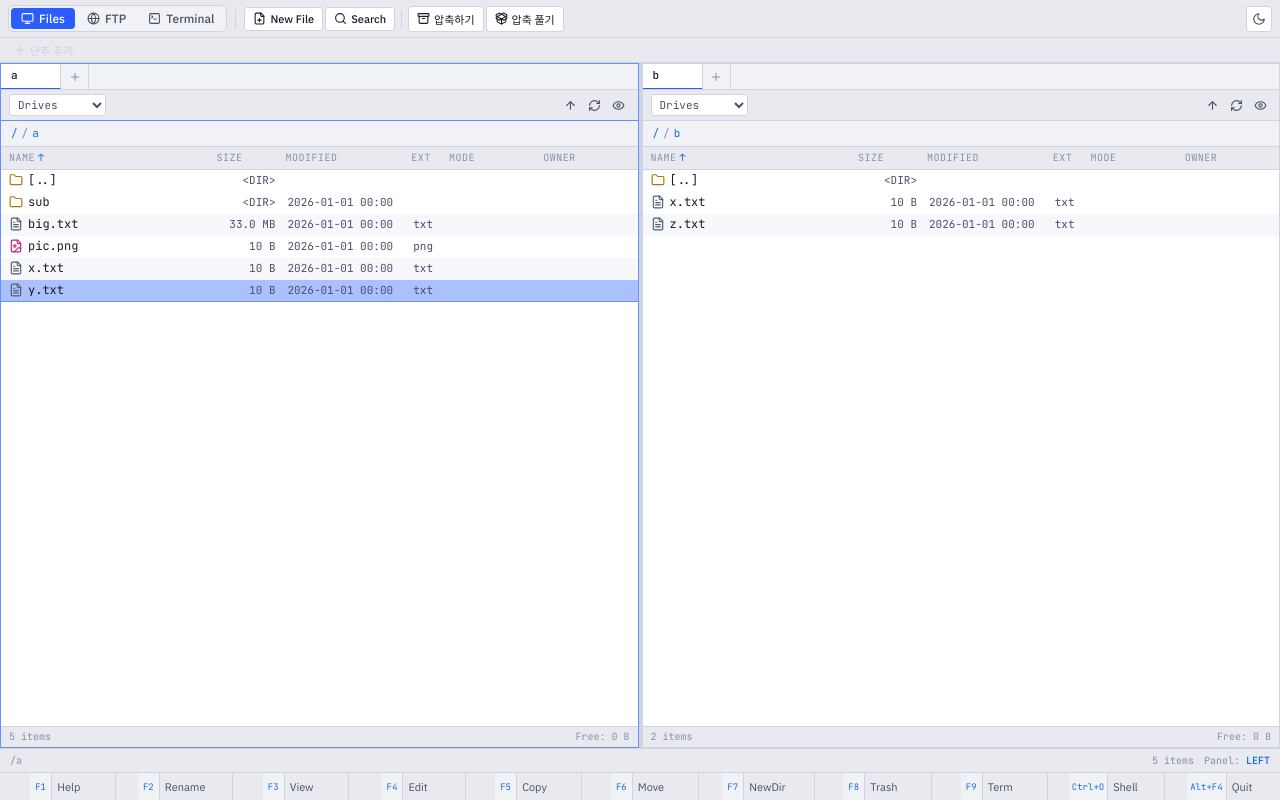
Test case: App 커버리지 — 휴지통/영구 삭제 › AP-06: 영구 삭제 실패 시 오류 표시 후 Escape로 닫힘
Expected: the text "y.txt" is shown, [28,282,64,299]
Press Delete
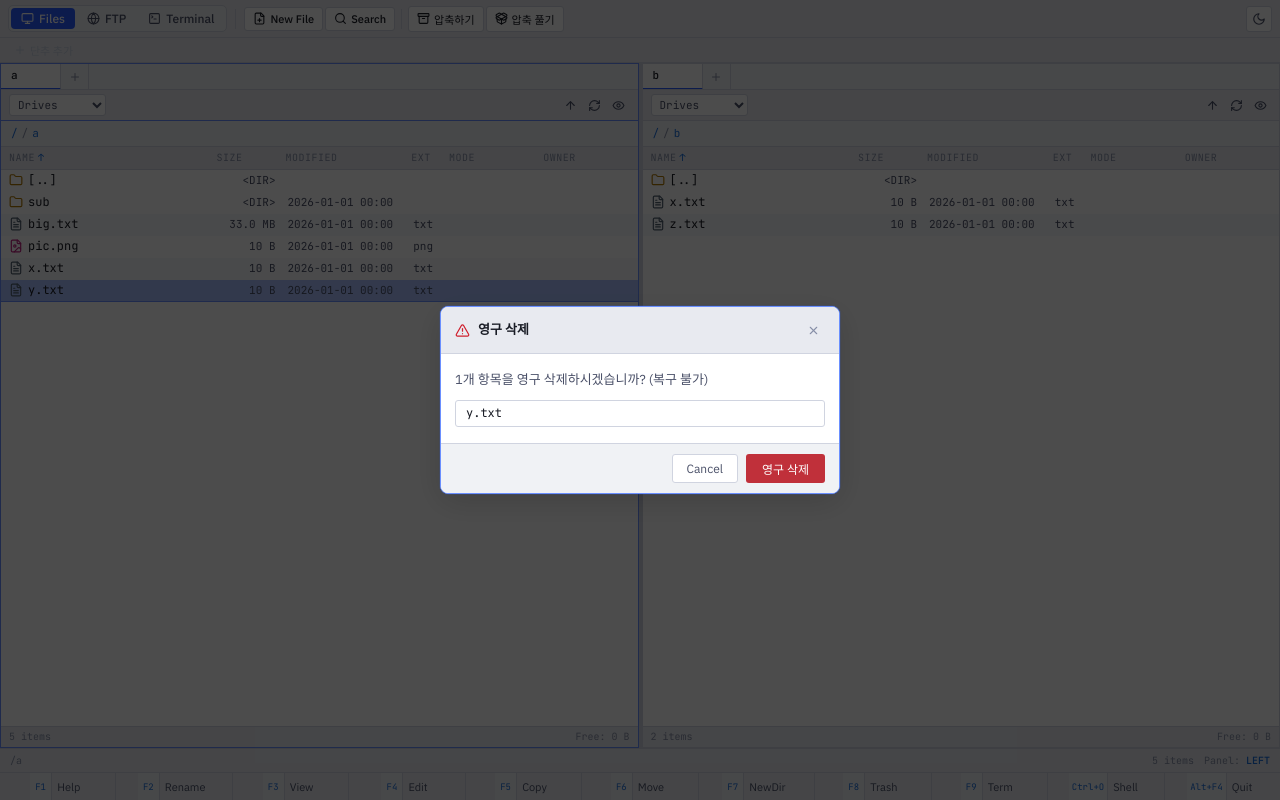
Click the button "영구 삭제" at (786, 468), box [746,454,825,483]
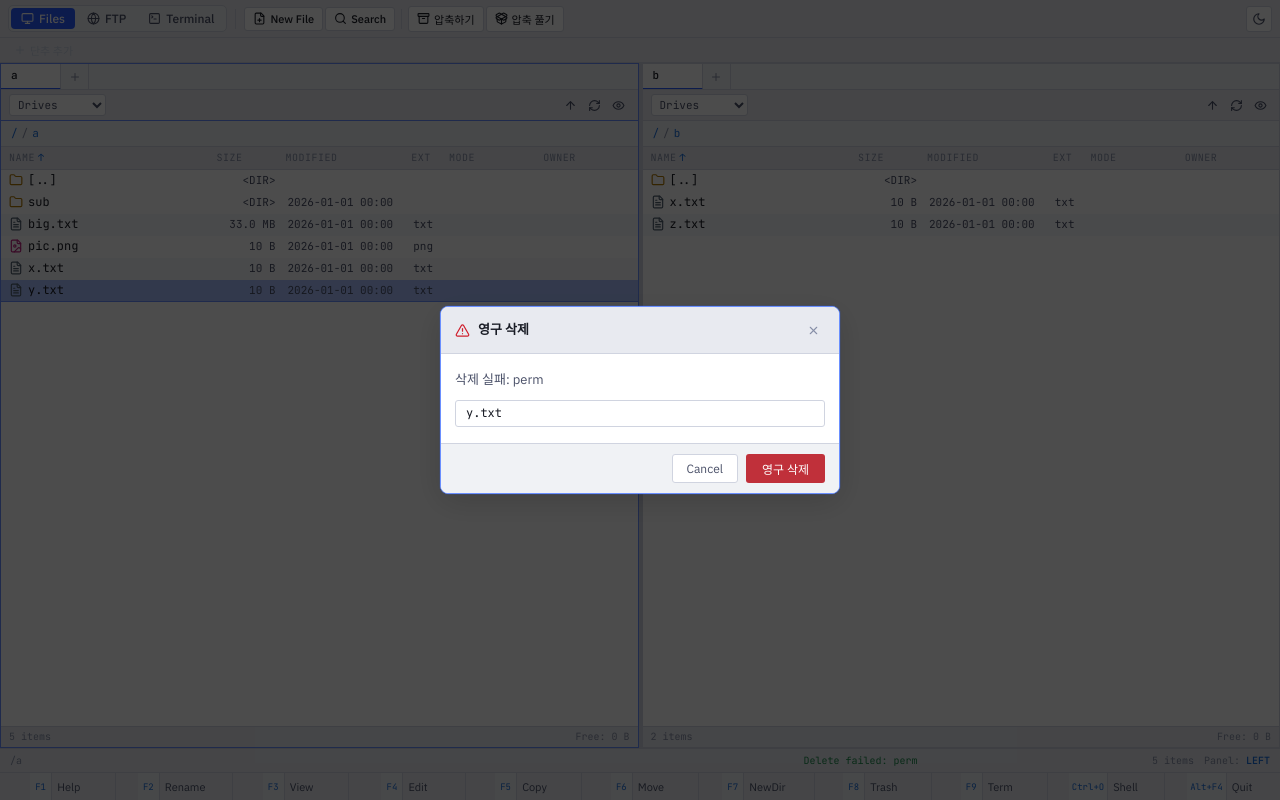
Expected: the text "삭제 실패: perm" is shown, [455,371,544,388]
Press Escape
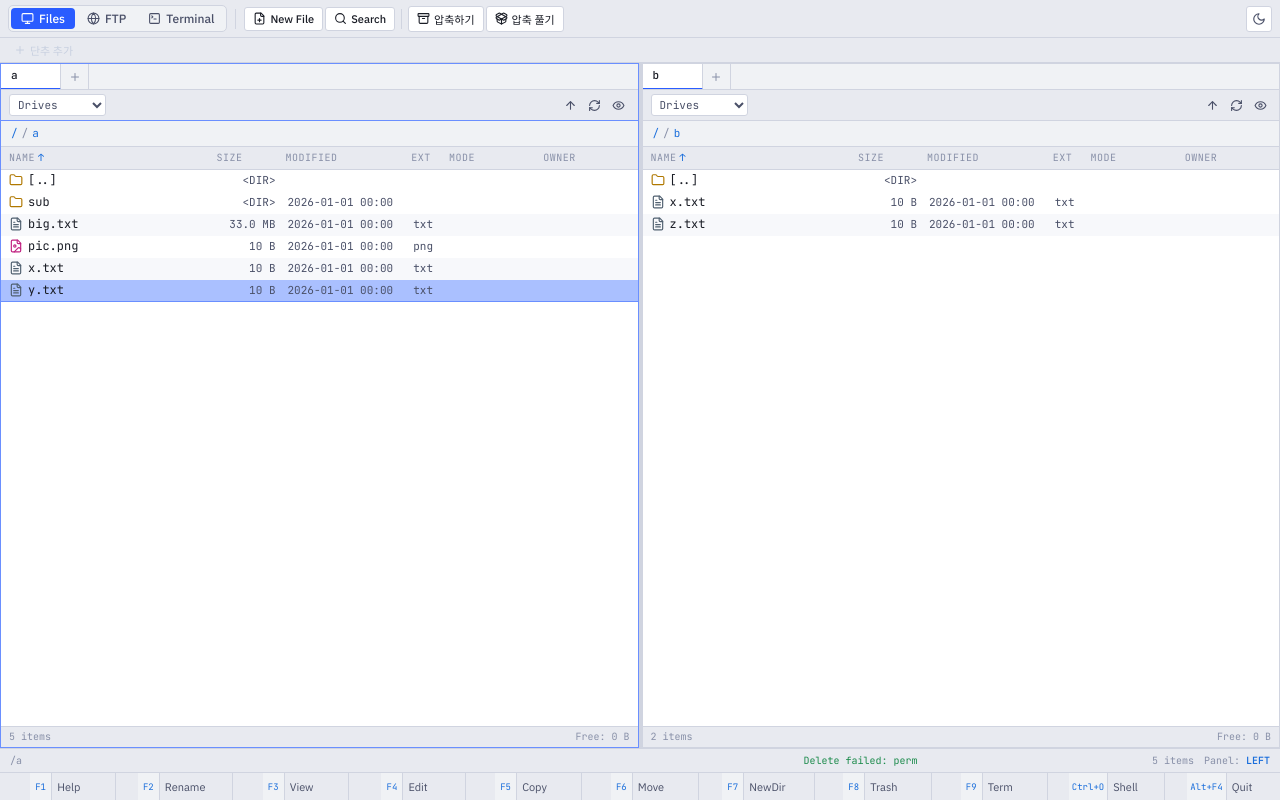
Expected: the text "삭제 실패: perm" is gone
